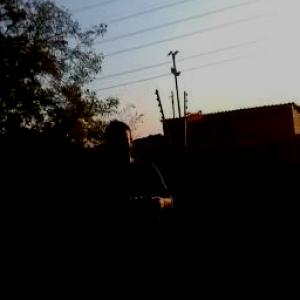follow: (90, 109, 194, 299)
